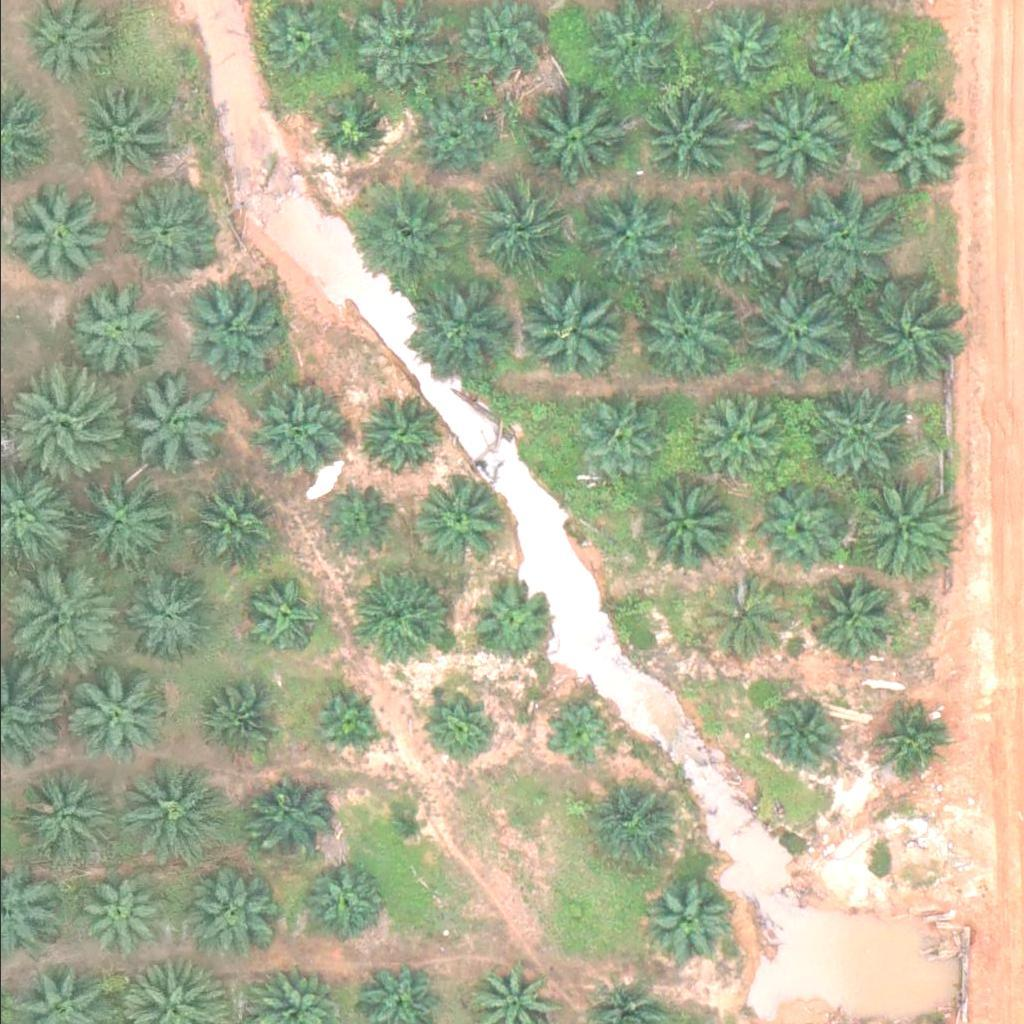Kelapa_Sawit: (632, 274, 746, 387), (845, 470, 959, 583), (5, 558, 119, 671), (522, 78, 635, 191), (786, 180, 899, 293), (342, 177, 455, 290), (738, 278, 851, 391), (521, 266, 634, 379), (739, 80, 852, 192), (682, 183, 795, 295), (461, 171, 574, 283), (850, 277, 963, 389), (398, 270, 511, 382), (7, 368, 120, 480), (860, 90, 961, 190), (639, 83, 740, 183), (809, 388, 910, 488), (340, 562, 441, 662), (173, 865, 274, 965), (60, 663, 161, 763), (123, 375, 224, 475), (184, 273, 285, 373), (119, 181, 220, 281), (70, 81, 171, 181), (9, 186, 110, 286), (582, 182, 682, 282), (639, 470, 739, 570), (576, 774, 676, 874), (119, 763, 219, 863), (238, 378, 338, 478), (69, 277, 169, 377), (15, 766, 115, 866), (118, 566, 218, 666), (63, 473, 163, 573), (867, 698, 955, 786), (698, 571, 786, 659), (307, 86, 395, 174), (696, 392, 784, 480), (576, 395, 664, 483), (757, 485, 845, 573), (809, 575, 897, 663), (66, 868, 154, 956), (248, 774, 336, 862), (751, 693, 839, 780), (581, 1, 669, 88), (411, 92, 499, 179), (648, 873, 736, 960), (465, 579, 553, 666), (185, 478, 273, 565), (184, 674, 272, 761), (307, 858, 395, 945), (416, 473, 504, 560), (353, 391, 441, 478), (243, 576, 319, 651), (303, 682, 379, 757), (420, 688, 496, 763), (540, 699, 616, 774), (313, 486, 388, 561), (385, 799, 435, 849)
